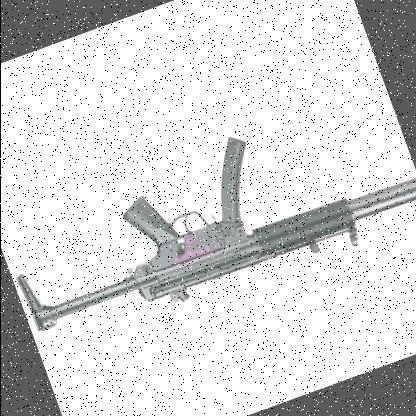rifle: (0, 80, 416, 382)
